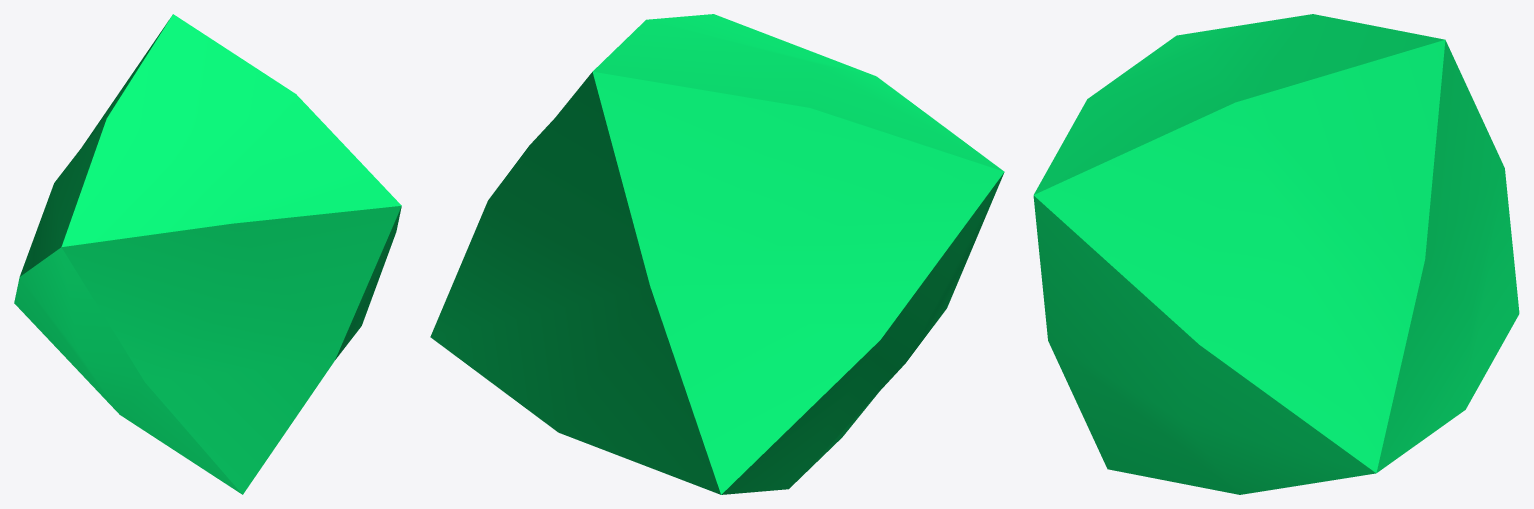
The model's file is Particle_Sparkle_fat.fbx.
3 views of the same model, side by side, from view 1: azimuth 30°, elevation 25°; view 2: azimuth 150°, elevation 25°; view 3: azimuth 270°, elevation 25° (orthographic). The views are drawn at different scales.
Visible parts, largest first — view 1: sparkle_pSuperShape_fat; view 2: sparkle_pSuperShape_fat; view 3: sparkle_pSuperShape_fat.
Boxes of the visible parts, x1=… form: sparkle_pSuperShape_fat: x1=14, y1=14, x2=401, y2=494; sparkle_pSuperShape_fat: x1=430, y1=14, x2=1004, y2=494; sparkle_pSuperShape_fat: x1=1033, y1=14, x2=1519, y2=494.
Bounding box in the file's own units: 1.61 × 1.52 × 1.43.
